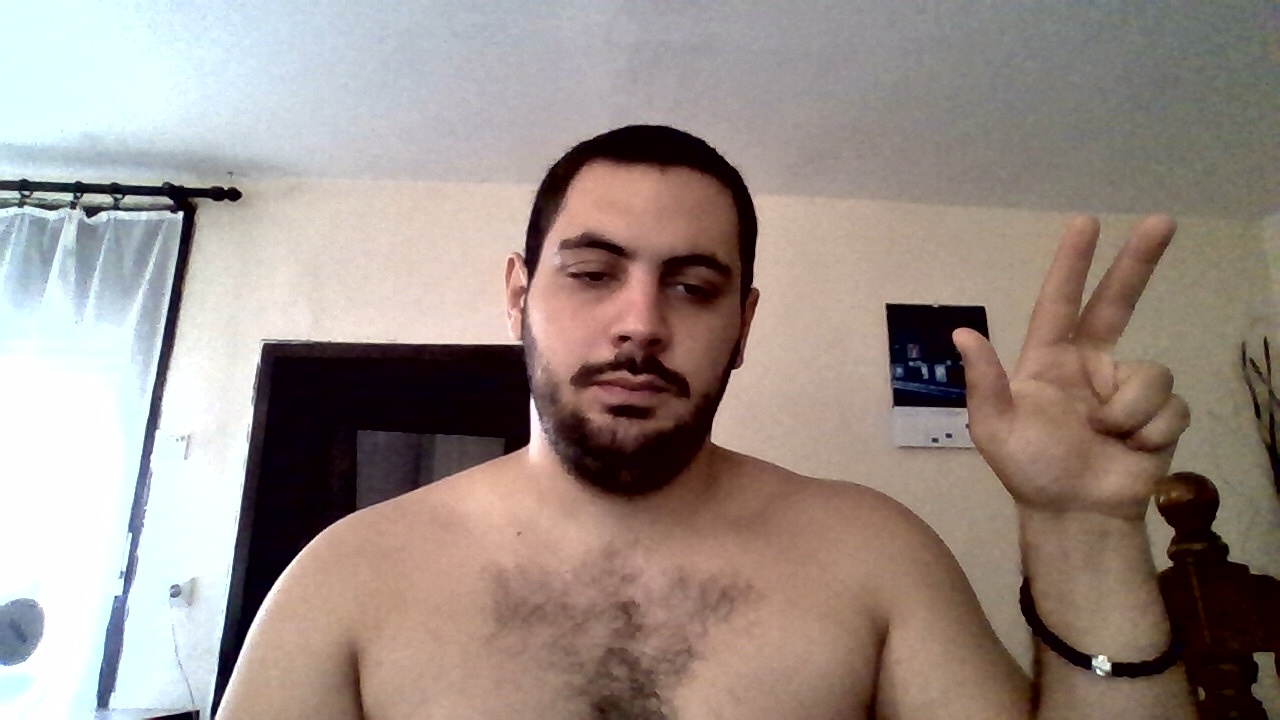serbia: (952, 216, 1210, 505)
